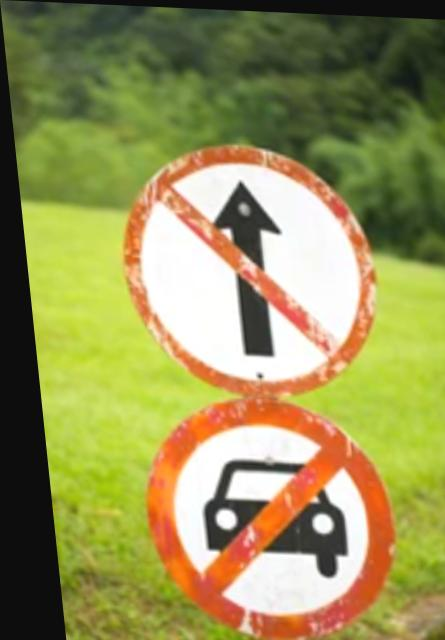not_go_straight: (112, 131, 381, 393)
